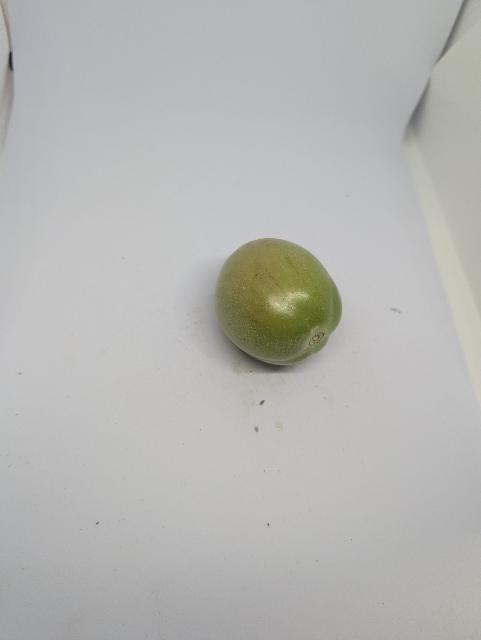green: (212, 235, 346, 368)
